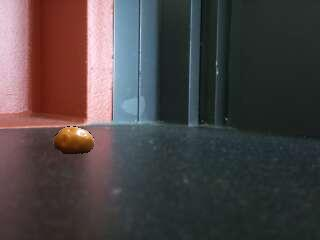Potato: (54, 127, 94, 155)
